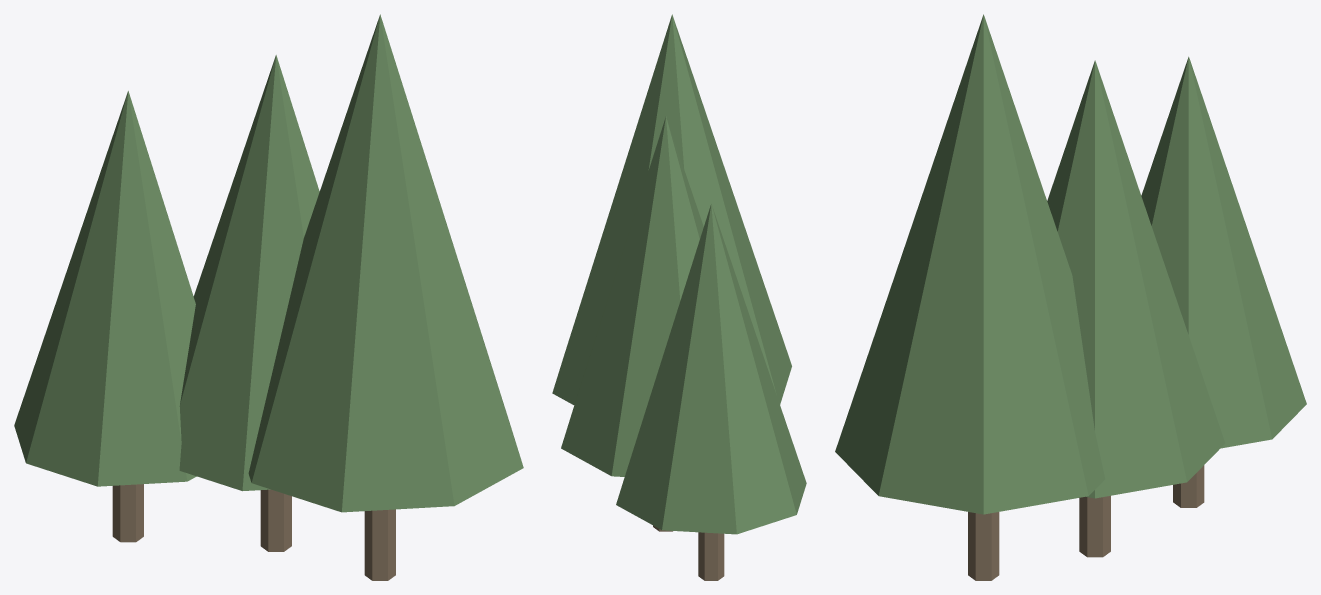
Rendered from resource_lumber_1.glb.
3 renders of one model, left to right at view 1: azimuth 30°, elevation 25°; view 2: azimuth 150°, elevation 25°; view 3: azimuth 270°, elevation 25°, orthographic. The views are drawn at different scales.
Parts seen in each view (by area): view 1: resource_lumber_1; view 2: resource_lumber_1; view 3: resource_lumber_1.
Boxes of the visible parts, bbox=[...] form: resource_lumber_1: bbox=[14, 14, 523, 580]; resource_lumber_1: bbox=[552, 14, 806, 580]; resource_lumber_1: bbox=[835, 14, 1306, 580].
Bounding box in the file's own units: 2.52 × 3.55 × 2.71.
